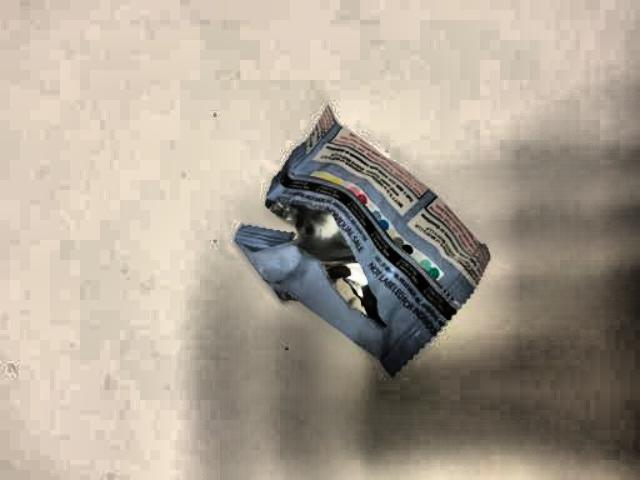Plastic: (224, 96, 491, 384)
